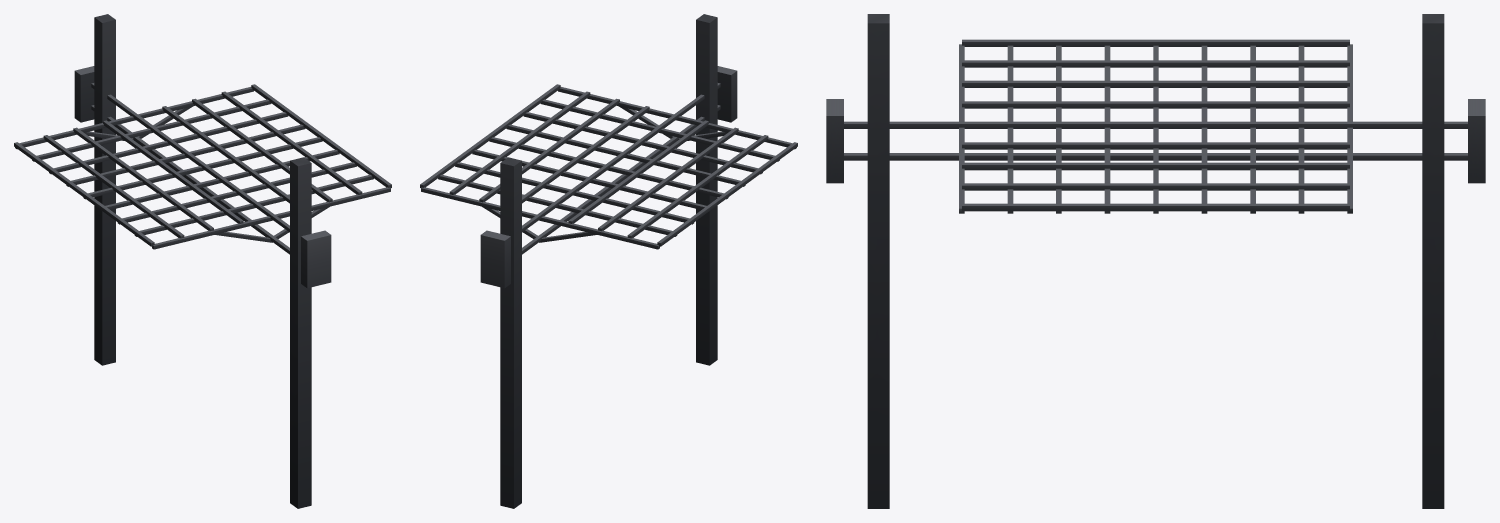
The model's file is Camp_Grill_1A.fbx.
3 views of the same model, side by side, from view 1: azimuth 30°, elevation 25°; view 2: azimuth 150°, elevation 25°; view 3: azimuth 270°, elevation 25° (orthographic). The views are drawn at different scales.
Visible parts, largest first — view 1: Camp_Grill_1A; view 2: Camp_Grill_1A; view 3: Camp_Grill_1A.
Part boxes in pixels (<box>): Camp_Grill_1A: <box>14,14,391,508</box>; Camp_Grill_1A: <box>420,14,797,508</box>; Camp_Grill_1A: <box>826,14,1485,508</box>.
Bounding box in the file's own units: 56.81 × 77.27 × 95.07.
